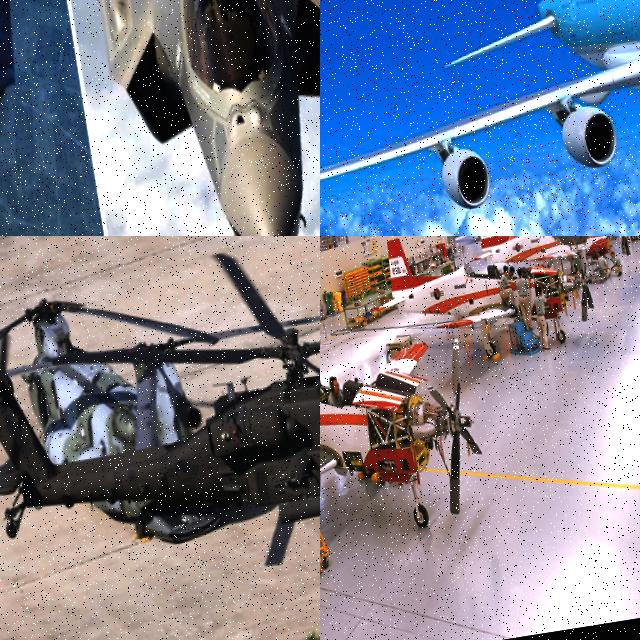A380: (320, 0, 640, 233)
Apache: (0, 240, 320, 614)
F22: (24, 0, 320, 236), (0, 0, 122, 236)
KT-1: (320, 264, 487, 607), (382, 236, 581, 369), (539, 236, 633, 258)
